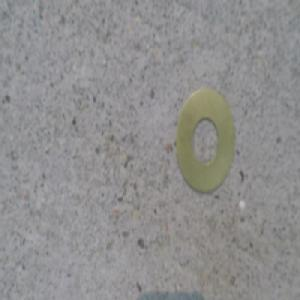Washer: (175, 86, 235, 196)
